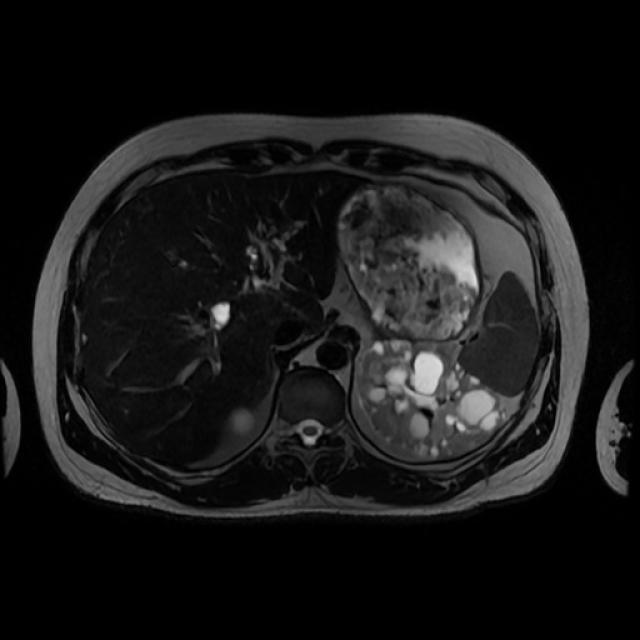sag: (228, 409, 256, 436)
sol: (354, 338, 507, 458)
